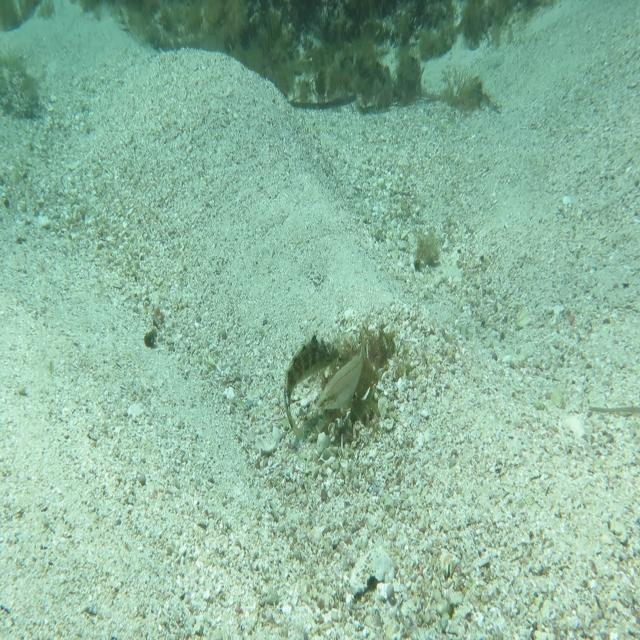BEND: (280, 316, 340, 446)
female: (313, 323, 373, 416)
nest: (311, 322, 405, 437)
vegetation: (114, 0, 542, 57), (245, 62, 446, 125), (407, 234, 441, 279)
